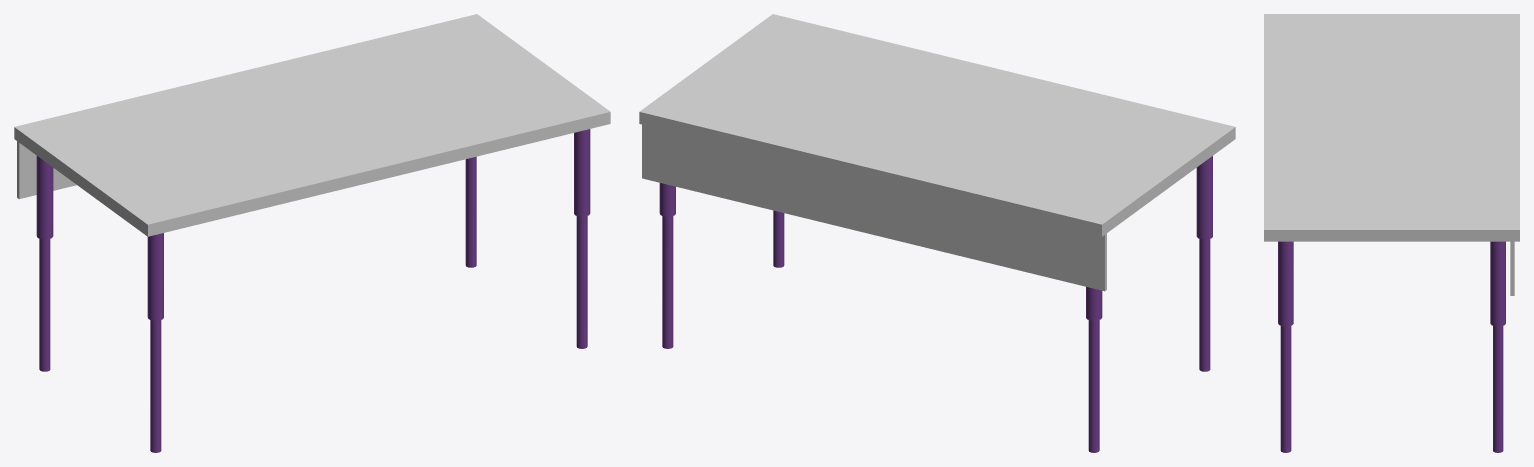
The model's file is SM office table.fbx.
3 renders of one model, left to right at view 1: azimuth 30°, elevation 25°; view 2: azimuth 150°, elevation 25°; view 3: azimuth 270°, elevation 25°, orthographic. The views are drawn at different scales.
Parts seen in each view (by area): view 1: Table 10; view 2: Table 10; view 3: Table 10.
Boxes of the visible parts, x1=… form: Table 10: x1=14, y1=14, x2=610, y2=452; Table 10: x1=639, y1=14, x2=1235, y2=452; Table 10: x1=1264, y1=14, x2=1519, y2=452.
Size of the model in its own units: 200 by 98.68 by 100.
